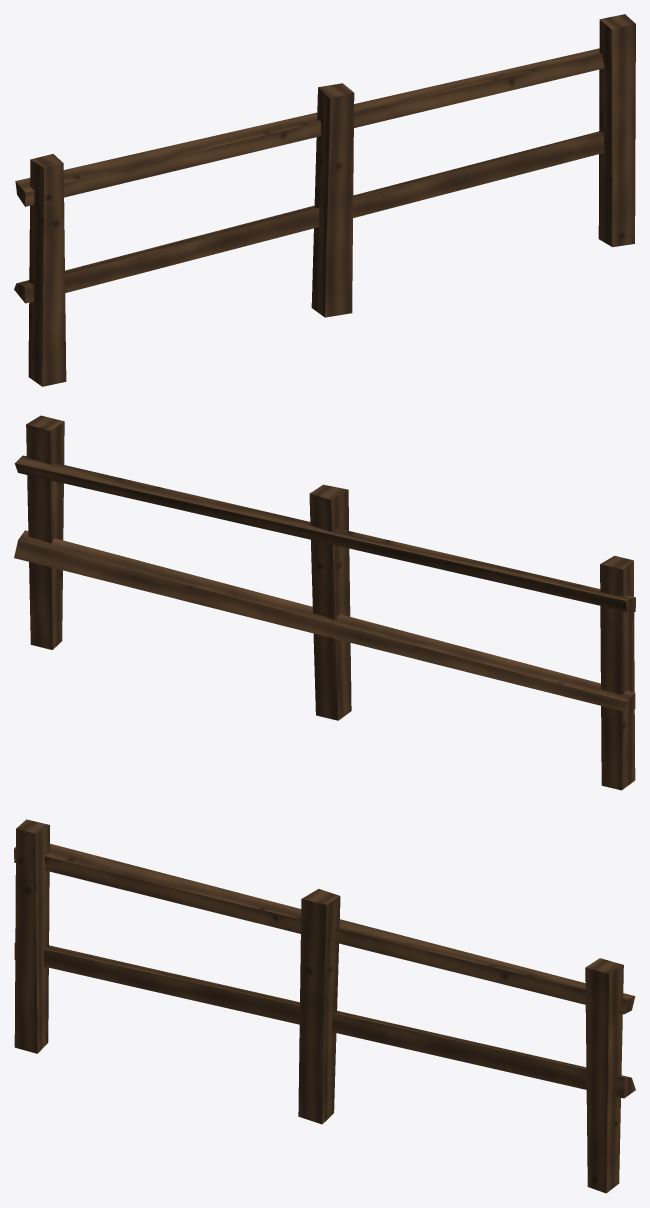
Rendered from Fence.fbx.
3 views of the same model, one above another, from view 1: azimuth 30°, elevation 25°; view 2: azimuth 150°, elevation 25°; view 3: azimuth 330°, elevation 25° (orthographic).
Visible parts, largest first — view 1: Fence; view 2: Fence; view 3: Fence.
Boxes of the visible parts, x1=… form: Fence: x1=14, y1=14, x2=635, y2=386; Fence: x1=14, y1=415, x2=635, y2=790; Fence: x1=14, y1=819, x2=635, y2=1193.
Bounding box in the file's own units: 3.2 × 1.1 × 0.194.
